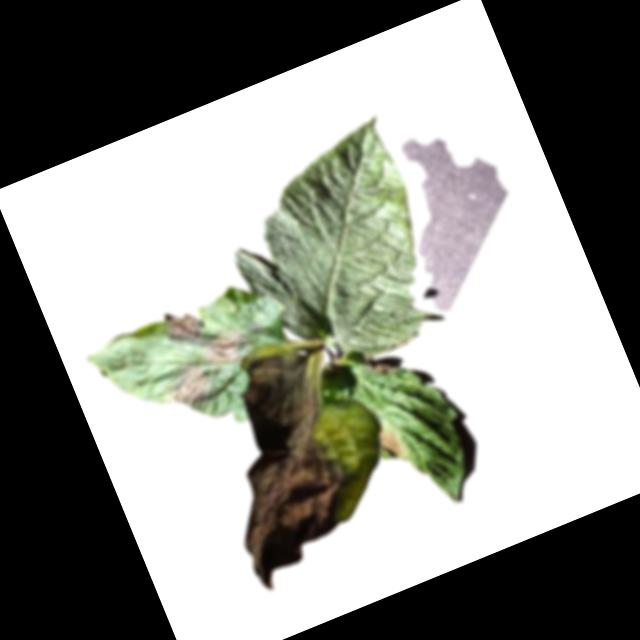Late_blight: (175, 334, 378, 594), (151, 355, 219, 417), (196, 322, 255, 372), (157, 301, 207, 351), (371, 423, 405, 465), (362, 349, 395, 381)
